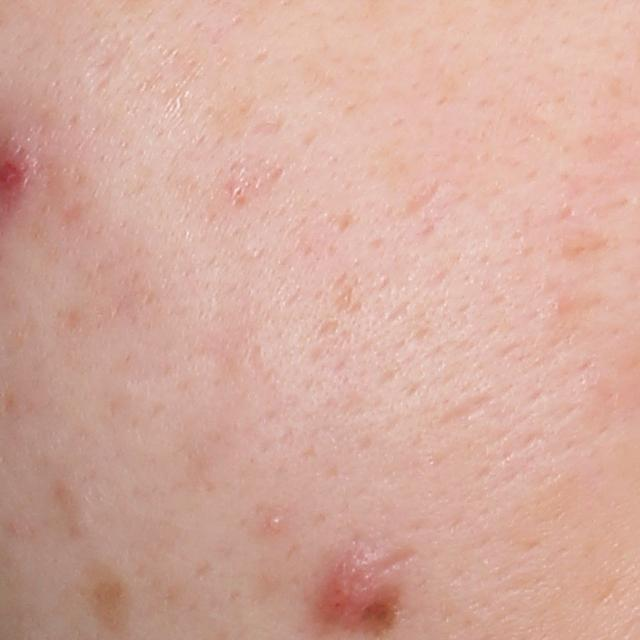atrophic_scar: (399, 176, 444, 218)
papule: (314, 548, 401, 635)
